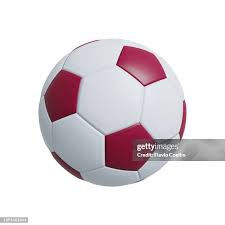football ball: (36, 37, 189, 187)
